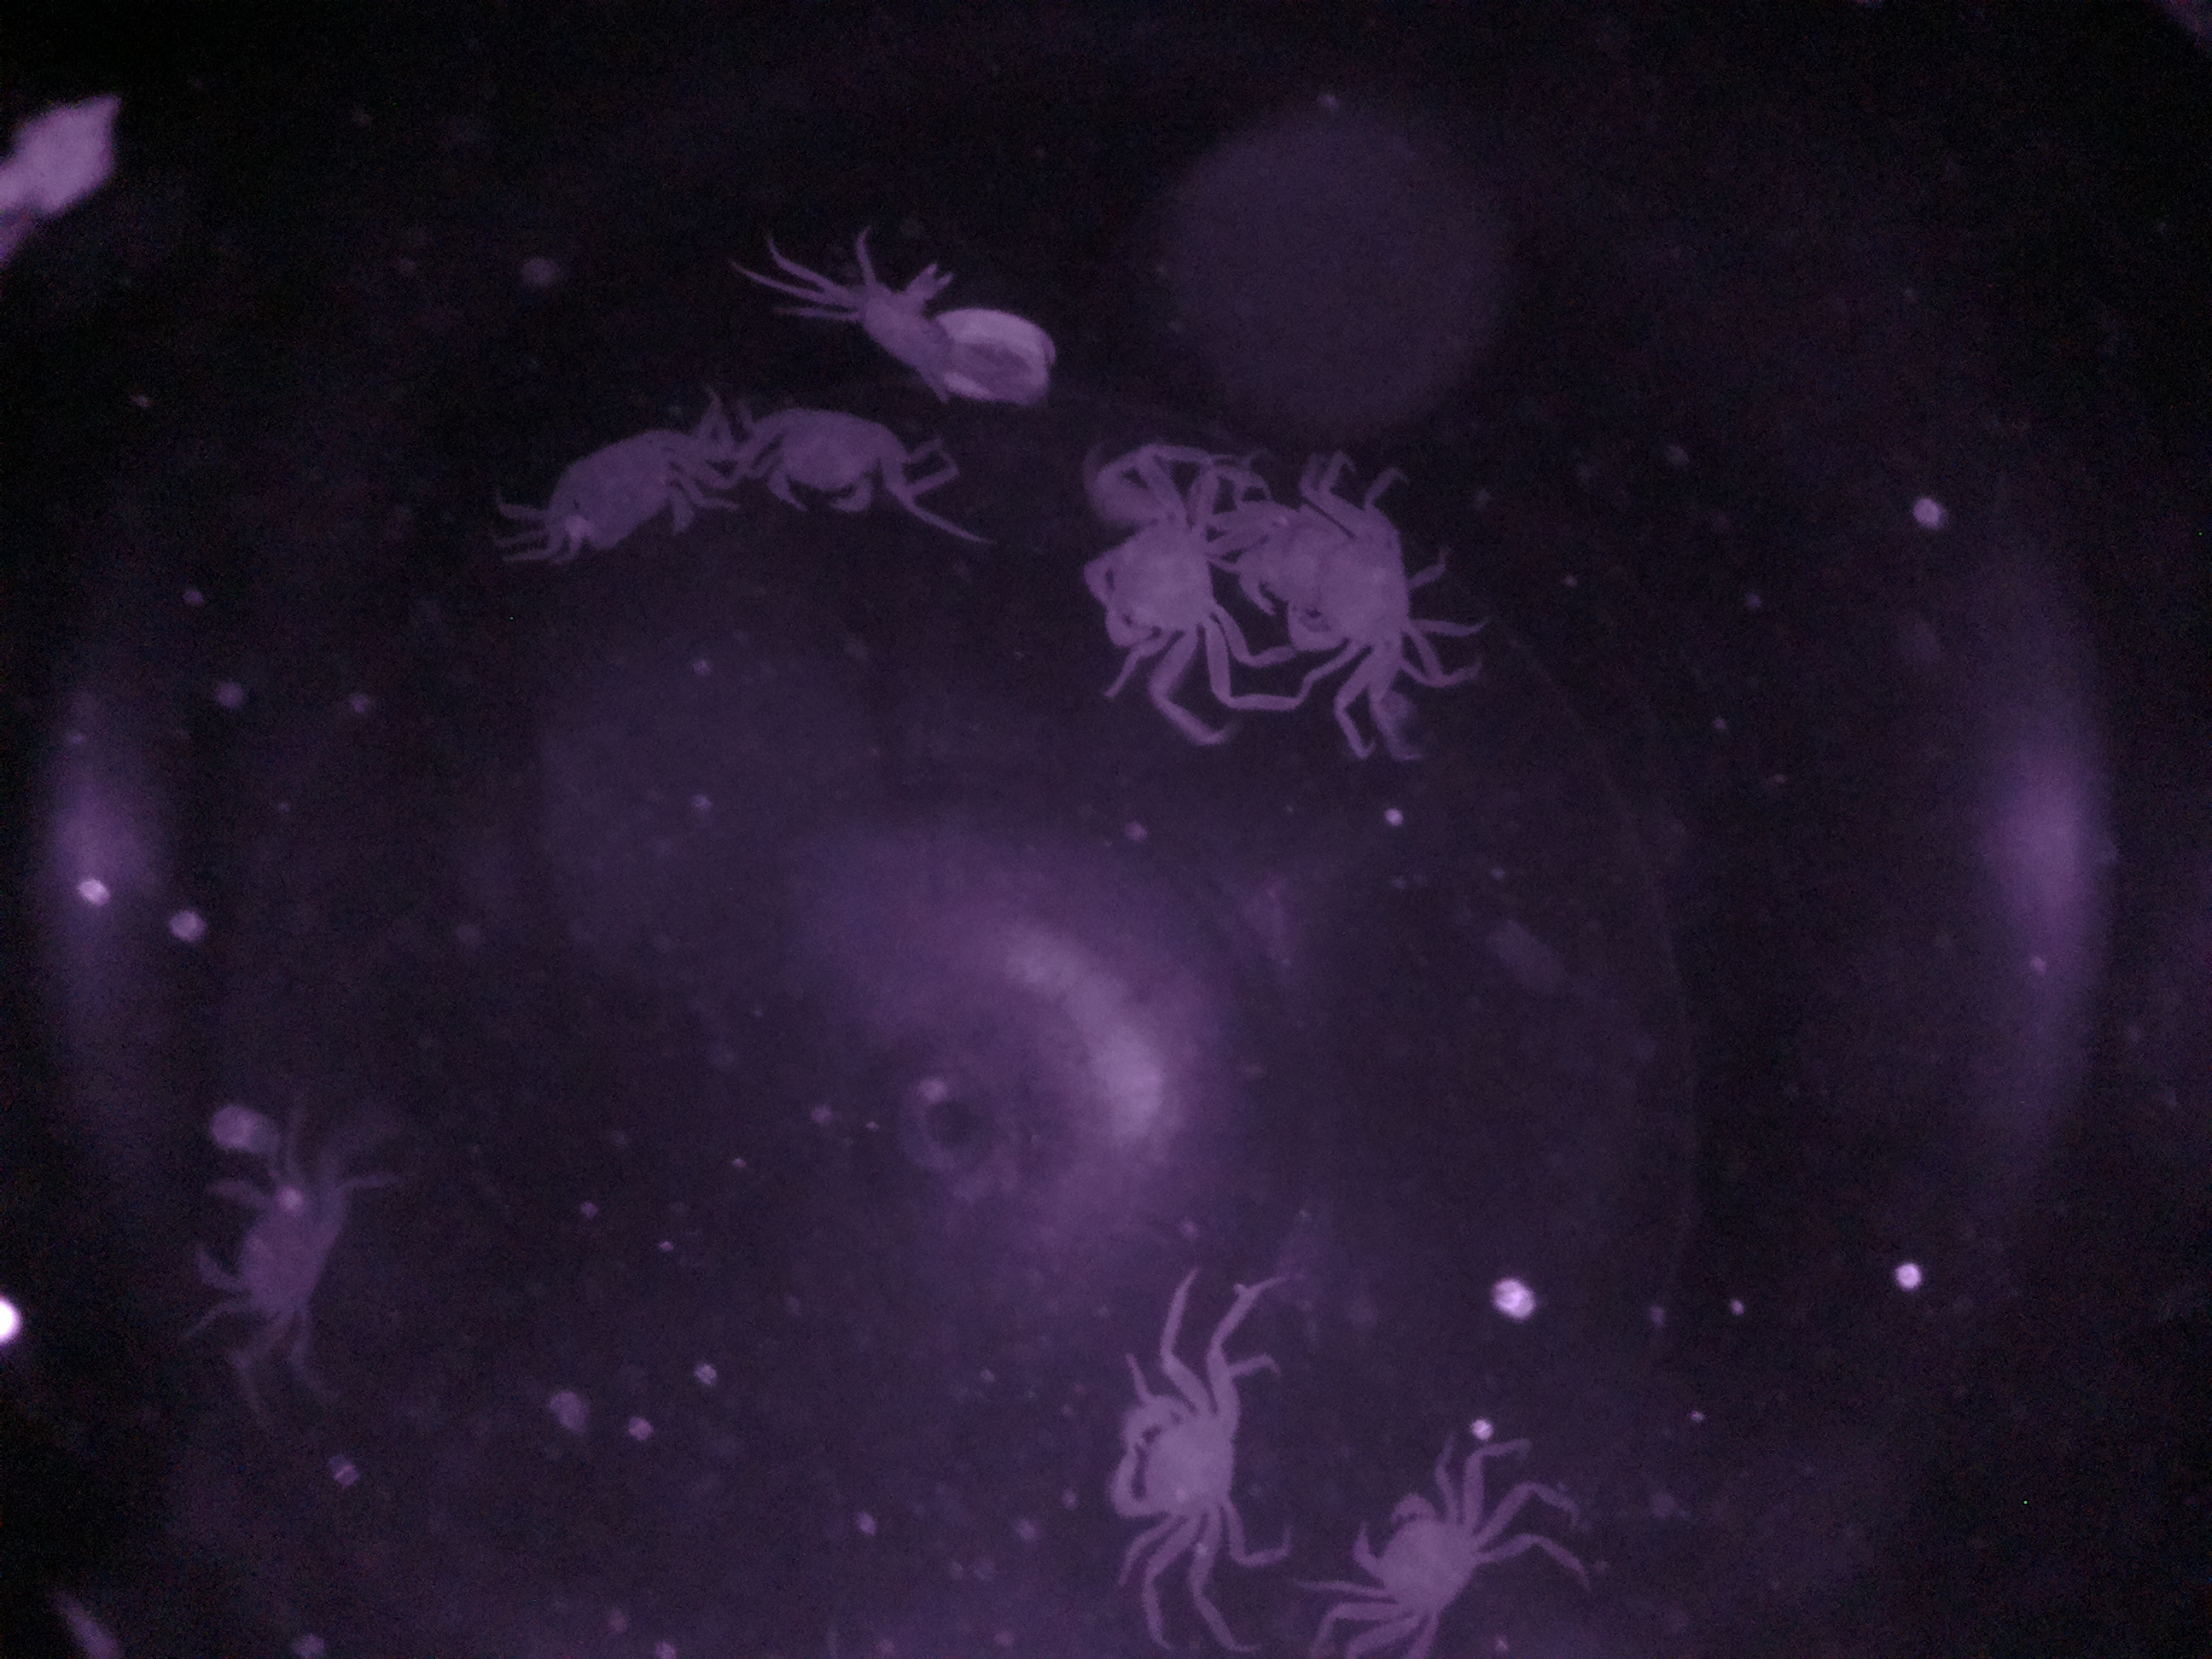Crab: (1092, 1323, 1254, 1575), (1325, 1438, 1512, 1657), (1075, 467, 1238, 708)
